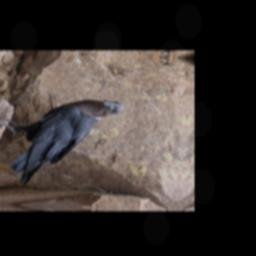Crow: (0, 95, 126, 189)
